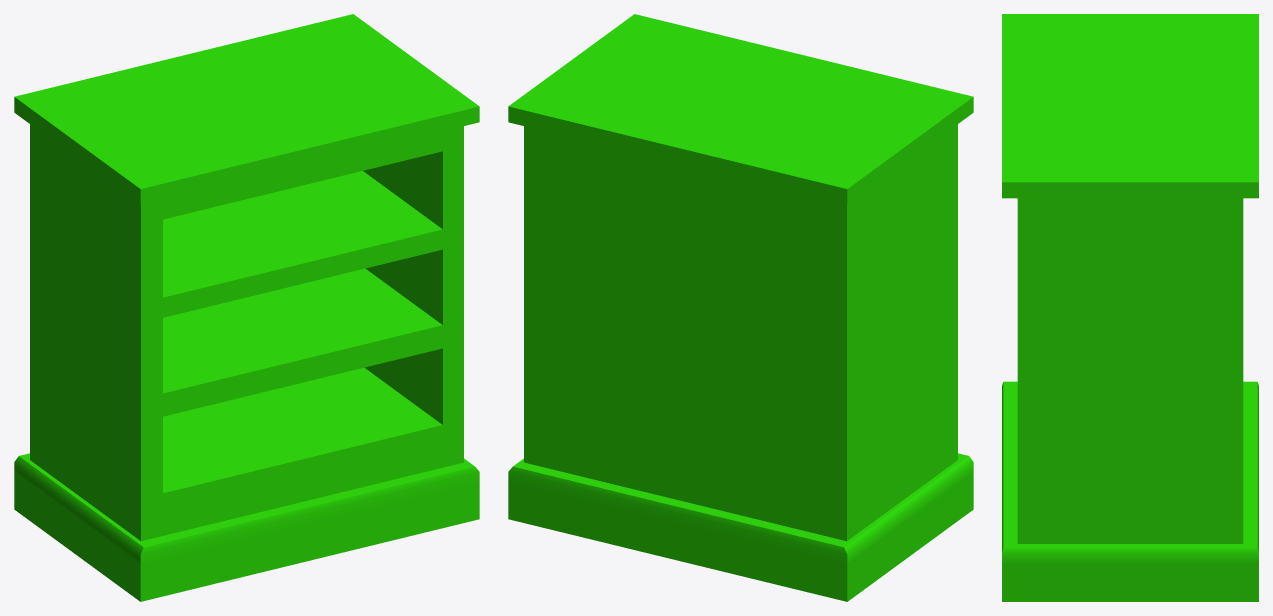
The model's file is Cupboard_07_Lod0.fbx.
3 renders of one model, left to right at view 1: azimuth 30°, elevation 25°; view 2: azimuth 150°, elevation 25°; view 3: azimuth 270°, elevation 25°, orthographic.
Visible parts, largest first — view 1: Cupboard_07_Lod0; view 2: Cupboard_07_Lod0; view 3: Cupboard_07_Lod0.
Boxes of the visible parts, box(x1,y1,x2,y2) form: Cupboard_07_Lod0: box(14, 14, 479, 601); Cupboard_07_Lod0: box(508, 14, 973, 601); Cupboard_07_Lod0: box(1002, 14, 1258, 601).
Bounding box in the file's own units: 86.71 × 101 × 55.95.
